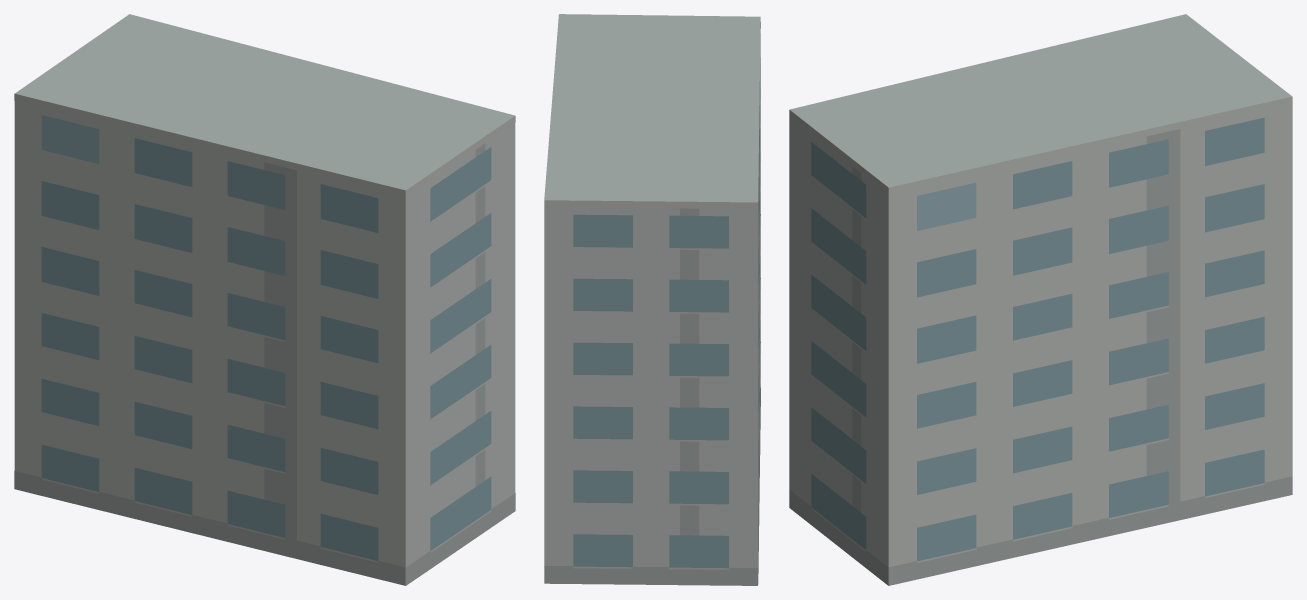
Rendered from survey-upis-32885854.glb.
The picture shows the model from 3 angles, left to right: view 1: azimuth 30°, elevation 25°; view 2: azimuth 150°, elevation 25°; view 3: azimuth 270°, elevation 25°; orthographic projection. The views are drawn at different scales.
Parts seen in each view (by area): view 1: survey-upis-32885854.tmp; view 2: survey-upis-32885854.tmp; view 3: survey-upis-32885854.tmp.
Part boxes in pixels (x1,y1,x2,y2): survey-upis-32885854.tmp: (14,14,515,585); survey-upis-32885854.tmp: (544,14,760,585); survey-upis-32885854.tmp: (789,14,1292,585).
Size of the model in its own units: 12.91 by 13.8 by 15.81.
